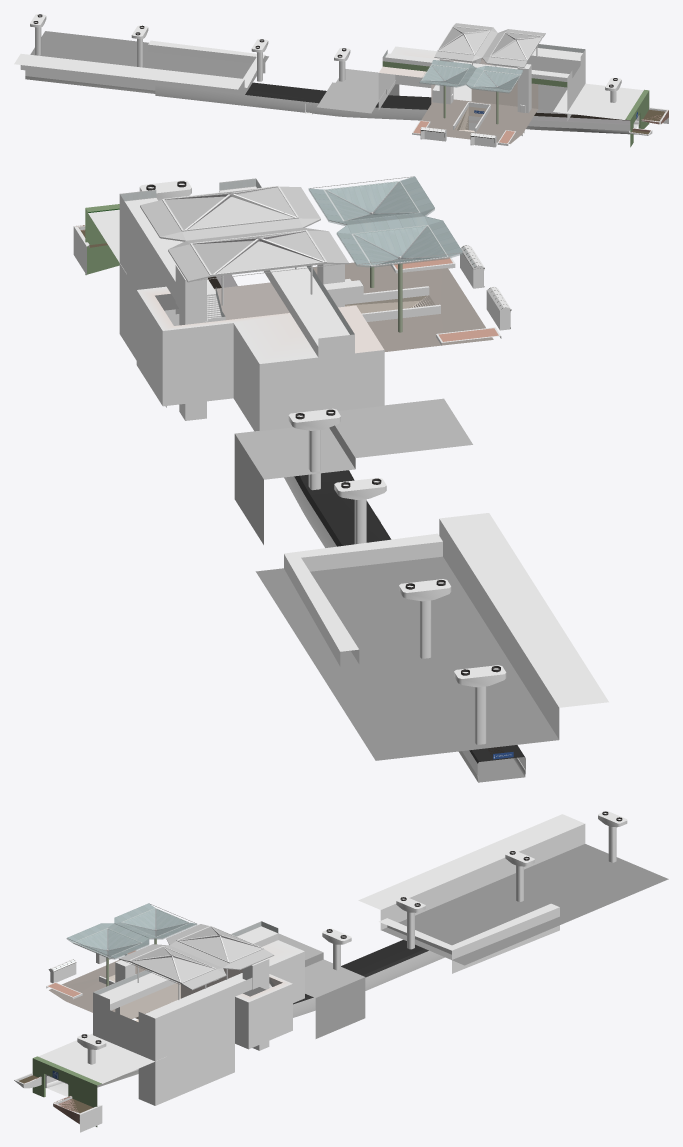
Rendered from station_downtown.dae.
3 views of the same model, one above another, from view 1: azimuth 30°, elevation 25°; view 2: azimuth 150°, elevation 25°; view 3: azimuth 270°, elevation 25° (orthographic). The views are drawn at different scales.
Visible parts, largest first — view 1: Colmesh-1, station_downtown_a4000, station_downtown_a2000; view 2: Colmesh-1, station_downtown_a4000, station_downtown_a2000; view 3: Colmesh-1, station_downtown_a4000, station_downtown_a2000.
Boxes of the visible parts, x1=… form: Colmesh-1: x1=14, y1=16, x2=668, y2=147; station_downtown_a4000: x1=30, y1=14, x2=668, y2=144; station_downtown_a2000: x1=25, y1=27, x2=668, y2=134; Colmesh-1: x1=74, y1=177, x2=608, y2=782; station_downtown_a4000: x1=73, y1=176, x2=513, y2=759; station_downtown_a2000: x1=76, y1=182, x2=525, y2=782; Colmesh-1: x1=14, y1=814, x2=668, y2=1126; station_downtown_a4000: x1=52, y1=811, x2=627, y2=1132; station_downtown_a2000: x1=24, y1=909, x2=261, y2=1123.
Size of the model in its own units: 141 by 139 by 28.16.
